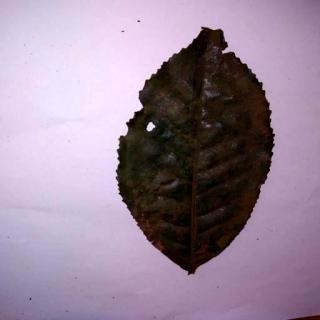Bird Eye Spot: (118, 28, 275, 276)
